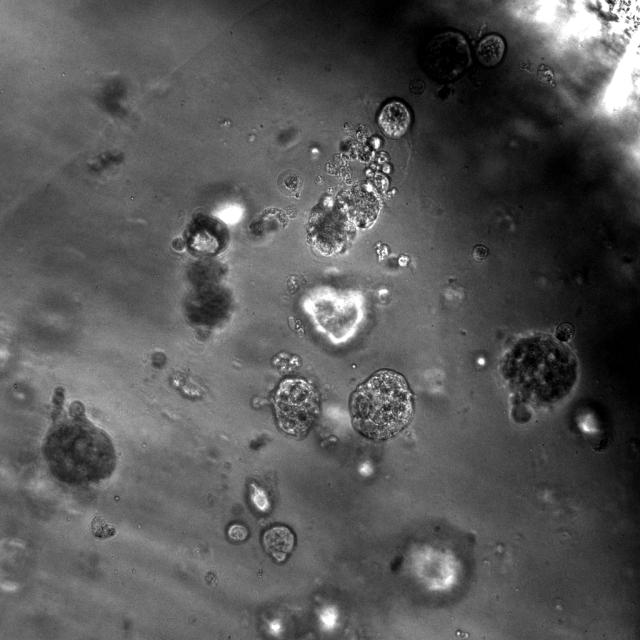organoid: (306, 121, 400, 257), (170, 206, 237, 342), (498, 322, 578, 423), (42, 386, 116, 487), (252, 351, 320, 439), (418, 23, 506, 84), (349, 369, 413, 441), (376, 98, 413, 139), (260, 522, 296, 564), (249, 205, 298, 235), (89, 515, 116, 542), (277, 169, 303, 197), (225, 520, 250, 543), (285, 274, 306, 295), (537, 63, 554, 86), (288, 316, 304, 337), (374, 241, 390, 261), (472, 244, 488, 261), (436, 85, 454, 100), (409, 79, 425, 95), (519, 58, 536, 73), (398, 254, 410, 267), (455, 629, 468, 639), (315, 174, 324, 185)
